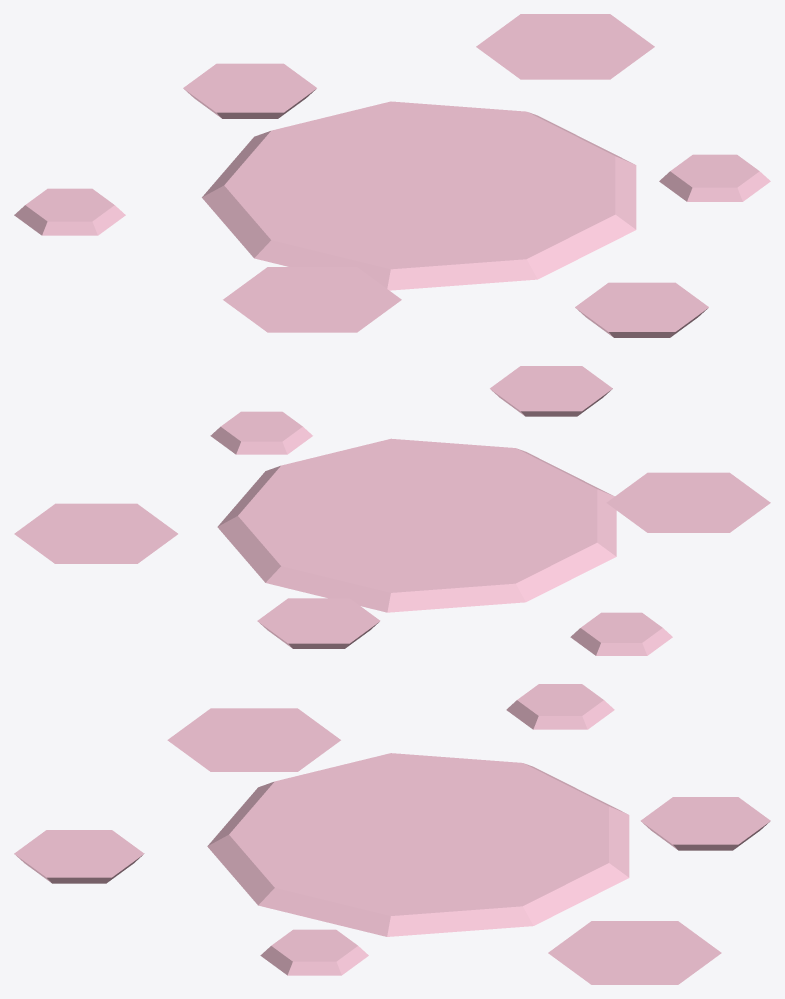
The model's file is splat_yogurt.glb.
3 renders of one model, top to bottom at view 1: azimuth 30°, elevation 25°; view 2: azimuth 150°, elevation 25°; view 3: azimuth 270°, elevation 25°, orthographic. The views are drawn at different scales.
Parts seen in each view (by area): view 1: splat_splat_yogurt_goo; view 2: splat_splat_yogurt_goo; view 3: splat_splat_yogurt_goo.
Boxes of the visible parts, x1,y1,x2,y2 form: splat_splat_yogurt_goo: [14, 14, 770, 337]; splat_splat_yogurt_goo: [14, 366, 770, 655]; splat_splat_yogurt_goo: [14, 684, 770, 984].
Size of the model in its own units: 0.3313 by 0.006 by 0.3478.
